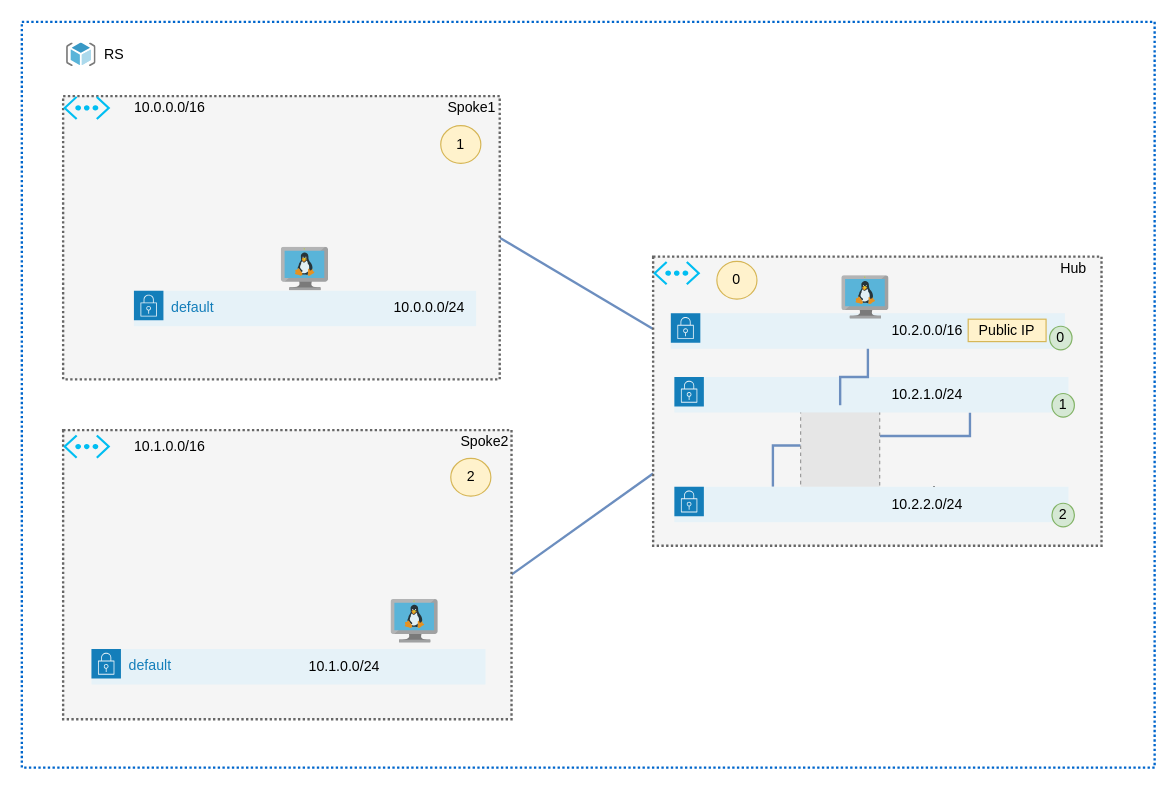
This 1175x788 diagram has some shape labels left out. Grey dashed boxes stand in for pictures. Each missing label, with the box of its shape:
management(default): (670, 312, 1065, 349)
public: (673, 486, 1068, 522)
trusted: (673, 376, 1068, 412)
